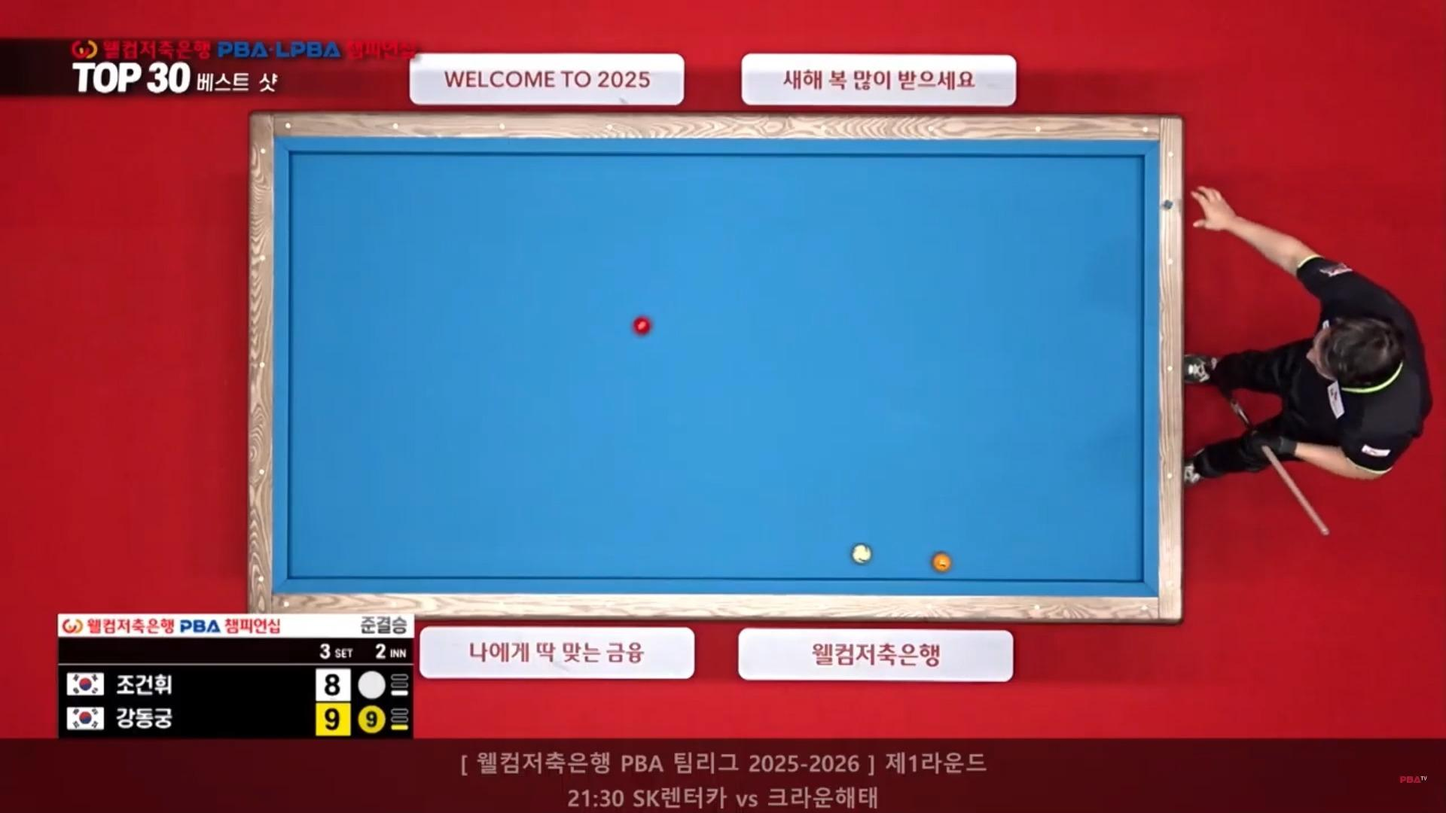Red: (631, 318, 654, 336)
White: (852, 544, 876, 563)
billiard-ball-Yellow: (931, 554, 956, 569)
